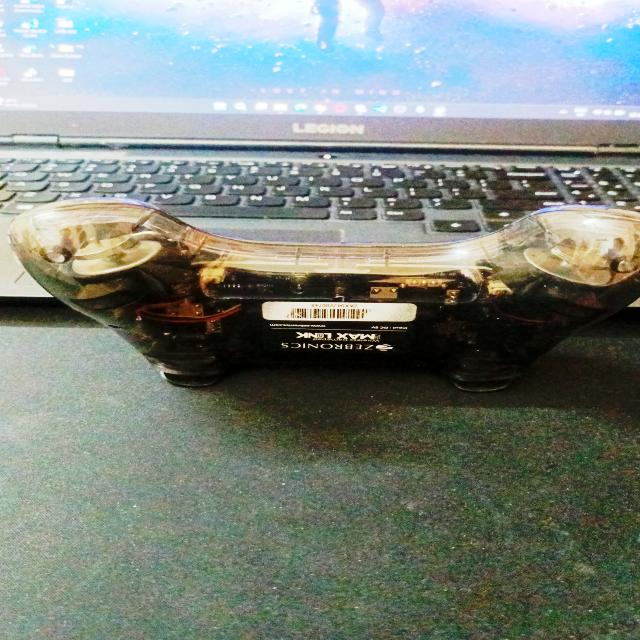gamepad: (7, 196, 640, 393)
